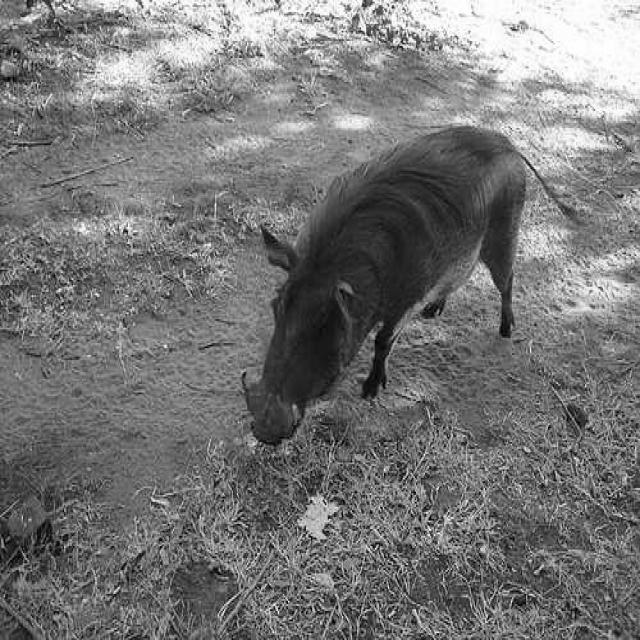boar: (242, 125, 572, 440)
